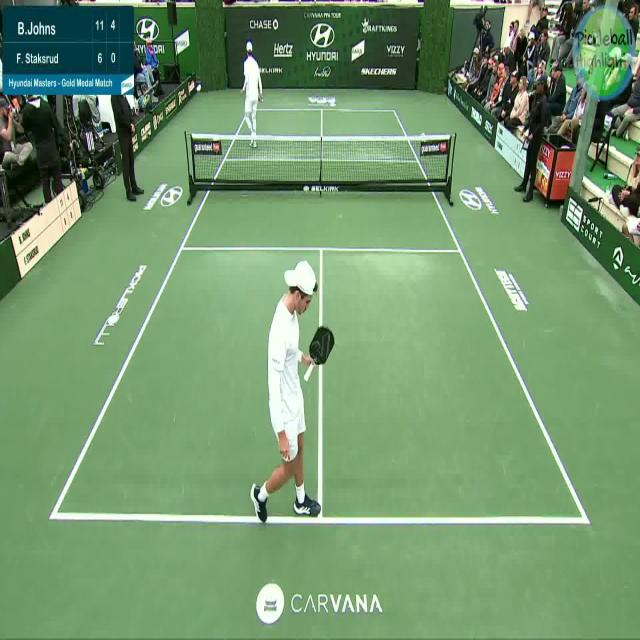Court: (52, 109, 589, 522)
